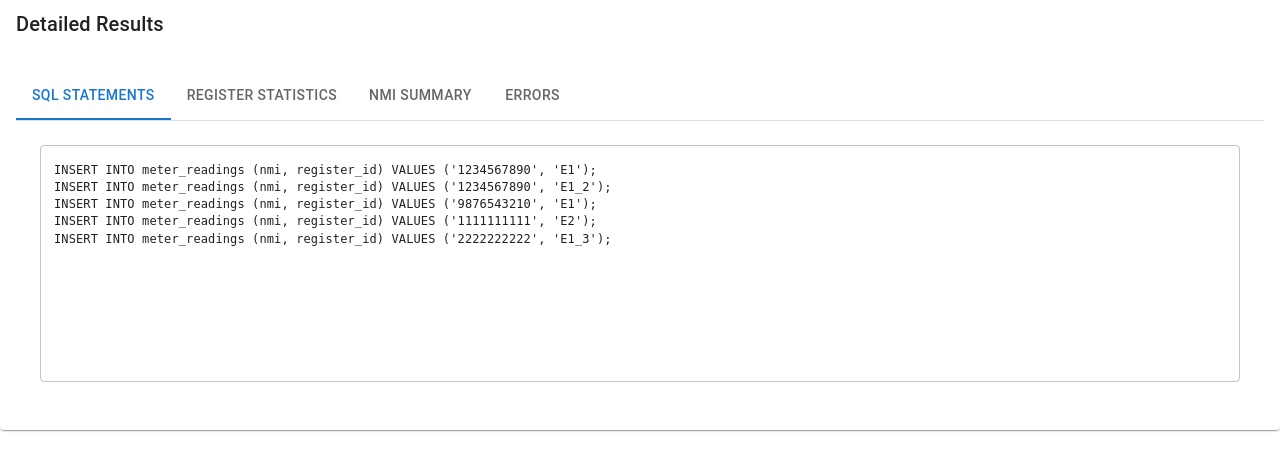
Scenario: DetailedResults Component › Register Statistics Tab › displays register distribution table
Click the tab "Register Statistics": (262,96) [171, 72, 353, 120]
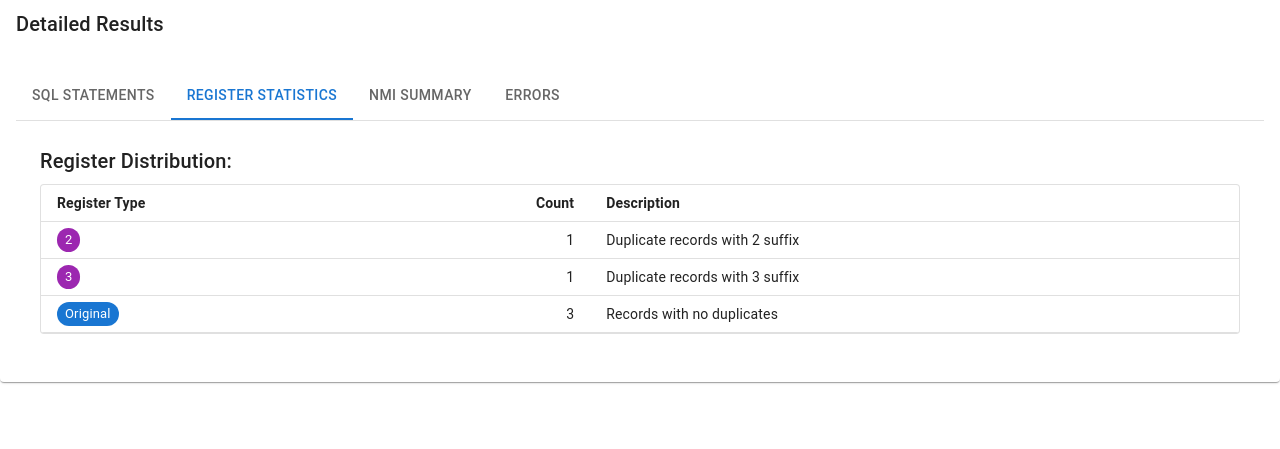
Expected: the heading "Register Distribution:" is shown, [40, 149, 232, 173]
Expected: the table is shown, [41, 185, 1239, 333]
